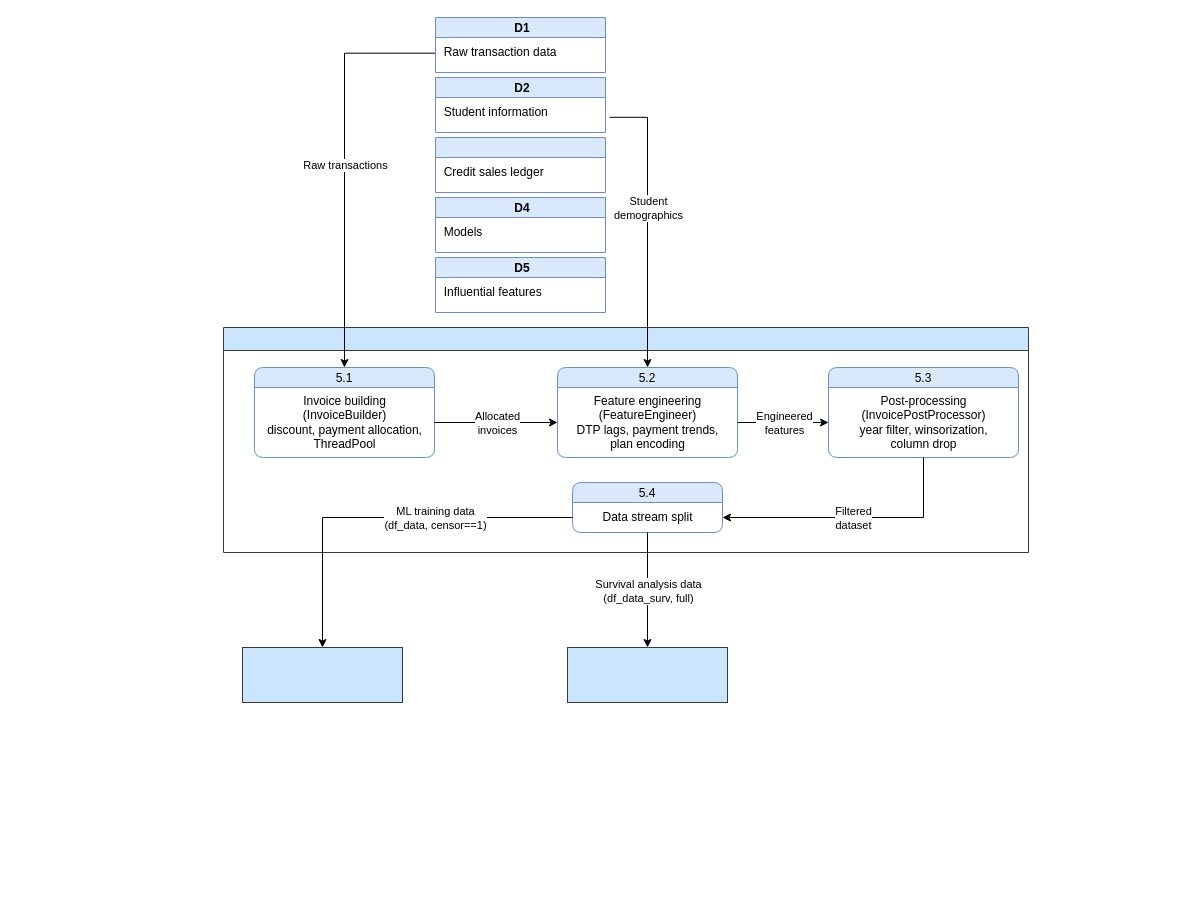
The diagram is 1203 pixels wide and 917 high, and some of its shapes have lost their labels. Each missing label, with the box of its shape:
5.0 Data Cleaning: (222, 326, 1028, 552)
Cox Tuning (Process 7.5): (566, 646, 728, 702)
D3: (434, 136, 606, 192)
ML Pipeline (Modelling DFD): (242, 646, 402, 702)
